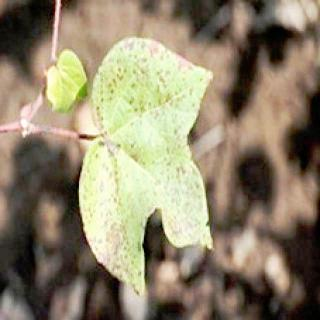leaf spot: (91, 37, 215, 280)
